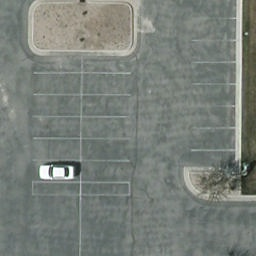car: (37, 166, 76, 183)
